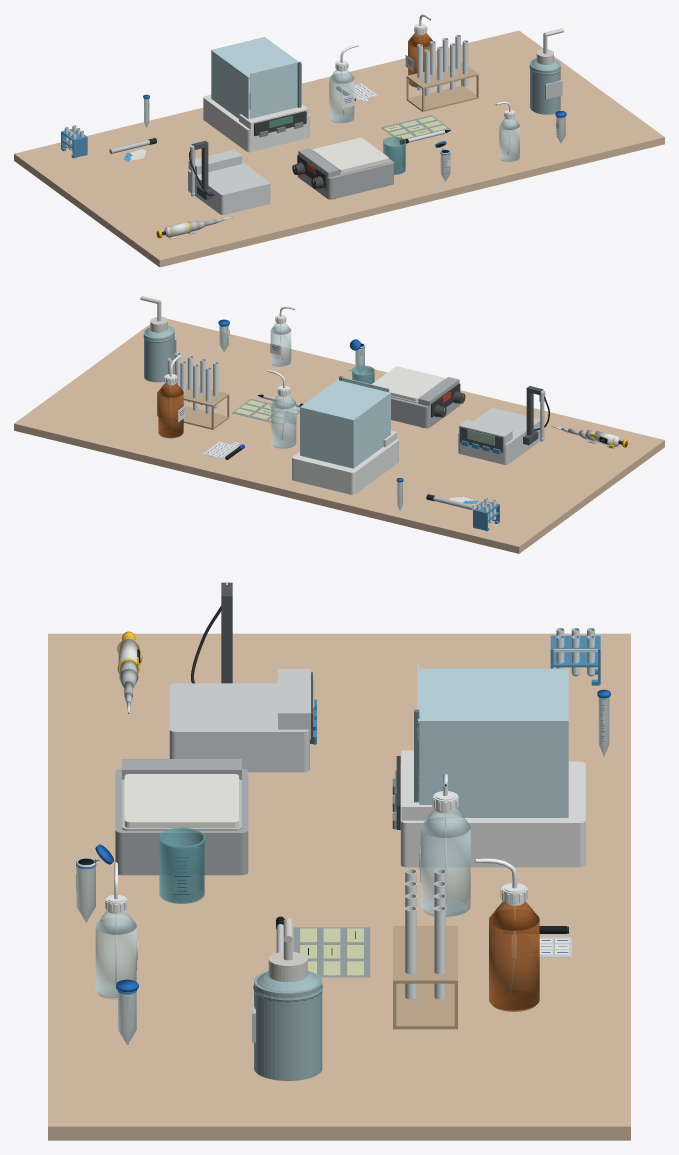
The model's file is laboratory.glb.
3 renders of one model, top to bottom at view 1: azimuth 30°, elevation 25°; view 2: azimuth 150°, elevation 25°; view 3: azimuth 270°, elevation 25°, orthographic. The views are drawn at different scales.
Parts seen in each view (by area): view 1: part_0256, part_0009, part_0230, part_0007, part_0197, part_0006, part_0201, part_0237, part_0193, part_0322, part_0272, part_0010 (+5 smaller); view 2: part_0256, part_0009, part_0007, part_0230, part_0201, part_0197, part_0193, part_0237, part_0322, part_0297, part_0272, part_0234 (+3 smaller); view 3: part_0256, part_0009, part_0230, part_0007, part_0201, part_0197, part_0193, part_0237, part_0297, part_0322, part_0010, part_0272 (+9 smaller).
Boxes of the visible parts, box(x1,y1,x2,y2) form: part_0256: box(14, 30, 664, 267); part_0009: box(211, 37, 302, 119); part_0230: box(188, 150, 270, 214); part_0007: box(203, 94, 309, 152); part_0197: box(297, 148, 393, 199); part_0006: box(250, 61, 300, 118); part_0201: box(529, 28, 563, 114); part_0237: box(406, 62, 478, 111); part_0193: box(313, 137, 388, 172); part_0322: box(329, 73, 354, 122); part_0272: box(499, 122, 519, 161); part_0010: box(383, 137, 405, 174); part_0256: box(14, 319, 664, 553); part_0009: box(299, 379, 391, 468); part_0007: box(292, 430, 398, 494); part_0230: box(458, 408, 540, 464); part_0201: box(140, 296, 176, 382); part_0197: box(391, 377, 460, 428); part_0193: box(372, 366, 444, 401); part_0237: box(157, 383, 229, 429); part_0322: box(271, 399, 296, 448); part_0297: box(158, 387, 183, 437); part_0272: box(270, 326, 291, 366); part_0234: box(523, 386, 543, 445); part_0256: box(48, 633, 630, 1140); part_0009: box(418, 668, 568, 817); part_0230: box(169, 669, 310, 772); part_0007: box(400, 750, 585, 867); part_0201: box(252, 918, 323, 1080); part_0197: box(115, 759, 248, 875); part_0193: box(124, 774, 238, 827); part_0237: box(393, 926, 457, 1029); part_0297: box(489, 910, 539, 1010); part_0322: box(420, 817, 470, 916); part_0010: box(159, 828, 204, 903); part_0272: box(95, 918, 136, 997).
Bounding box in the file's own units: 1.8 × 0.279 × 0.9.
